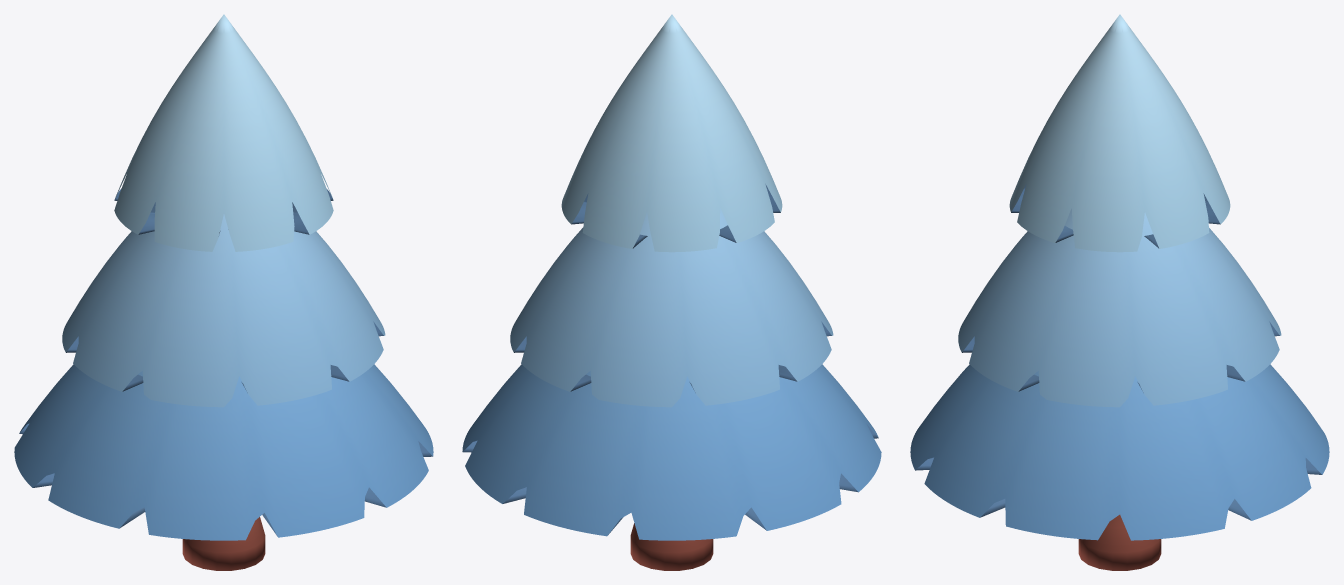
File: pine_1.glb
3 renders of one model, left to right at view 1: azimuth 30°, elevation 25°; view 2: azimuth 150°, elevation 25°; view 3: azimuth 270°, elevation 25°, orthographic.
Visible parts, largest first — view 1: pine_1; view 2: pine_1; view 3: pine_1.
Part boxes in pixels (x1=…): pine_1: x1=14, y1=14, x2=433, y2=570; pine_1: x1=462, y1=14, x2=881, y2=570; pine_1: x1=910, y1=14, x2=1329, y2=570.
Size of the model in its own units: 2.28 by 3.24 by 2.28.
3 materials, 3 textured.
